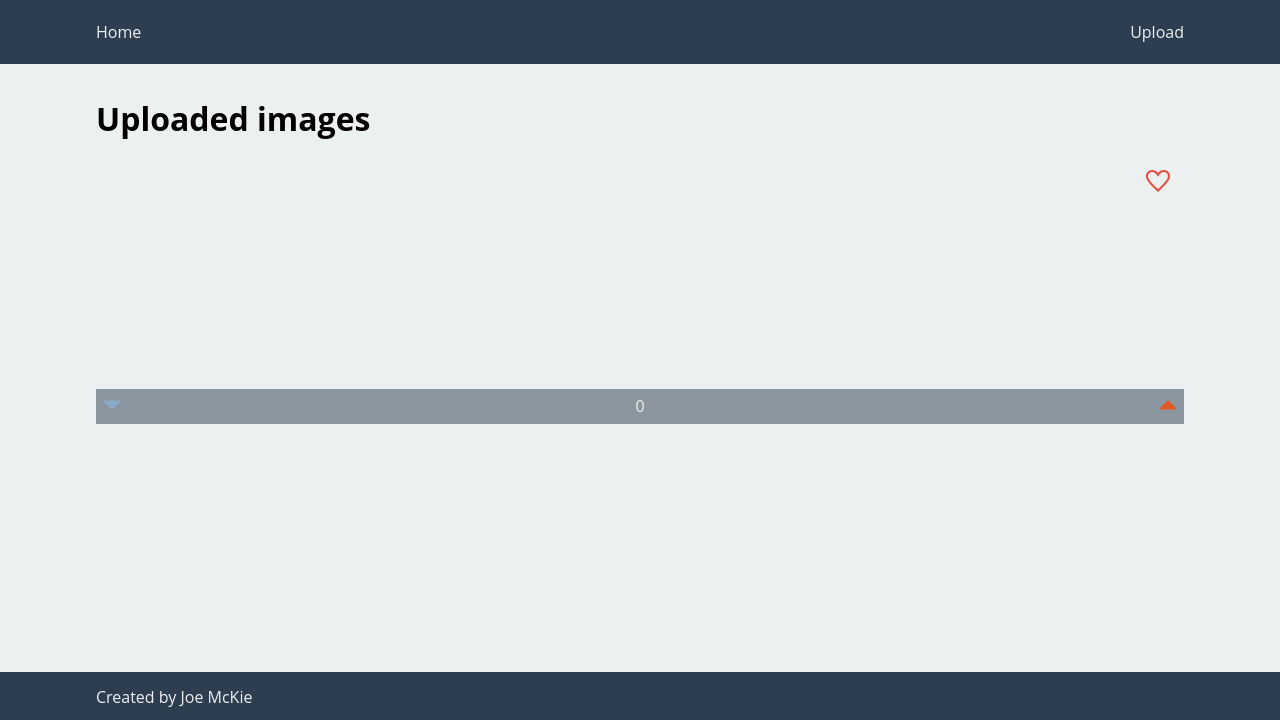
Test: votes an image down when the downvote button is pressed
The width and height of the screenshot is (1280, 720).
Check: the text "0" is shown, box 635,397 -> 645,416
Click the button with test id "downvote-button". click: (112,406)
box: 104,398 -> 120,416
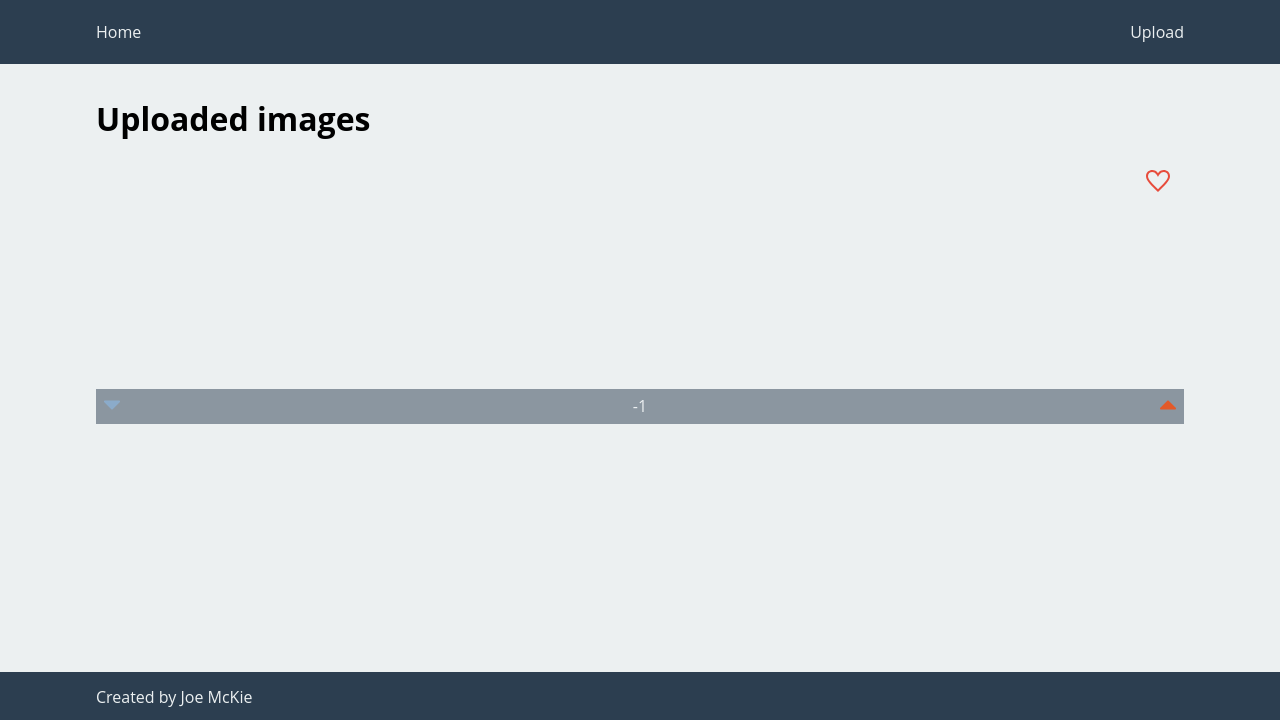
Check: the text "-1" is shown, box 633,397 -> 647,416
